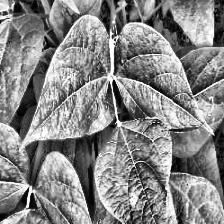Bean Rust: (18, 24, 113, 147), (96, 120, 176, 224), (140, 171, 224, 224)
